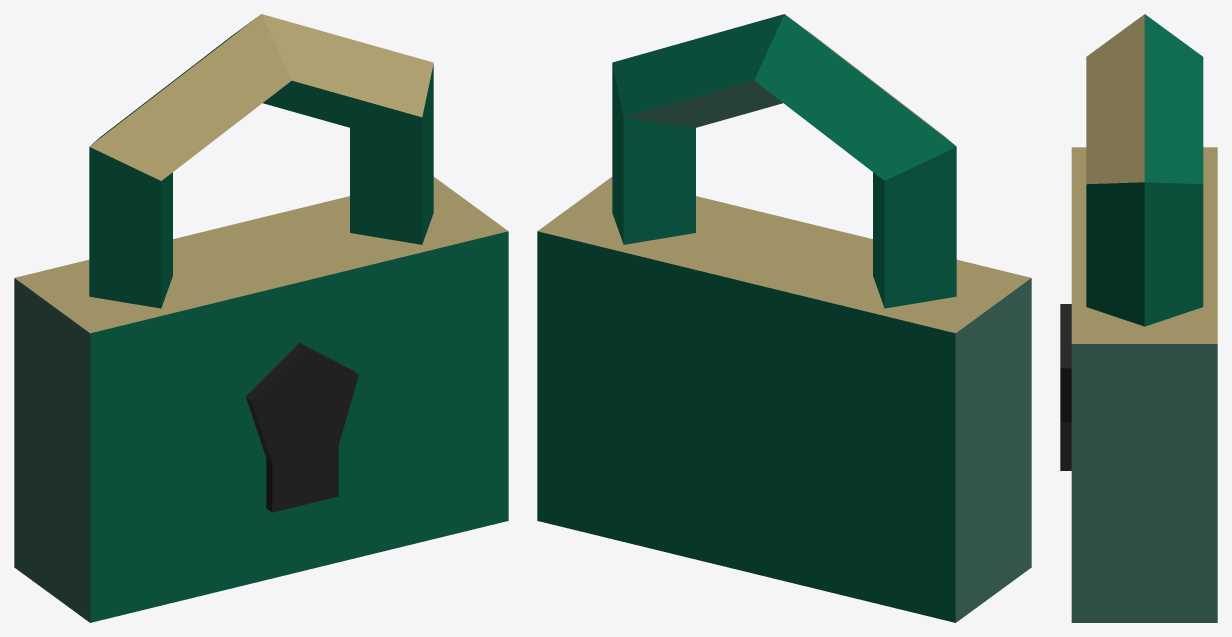
The model's file is TB_D_Prop_Chest_Lock_C.FBX.
The picture shows the model from 3 angles, left to right: view 1: azimuth 30°, elevation 25°; view 2: azimuth 150°, elevation 25°; view 3: azimuth 270°, elevation 25°; orthographic projection. The views are drawn at different scales.
Visible parts, largest first — view 1: TB_D_Prop_Chest_Lock_C; view 2: TB_D_Prop_Chest_Lock_C; view 3: TB_D_Prop_Chest_Lock_C.
Boxes of the visible parts, x1=… form: TB_D_Prop_Chest_Lock_C: x1=14, y1=14, x2=508, y2=622; TB_D_Prop_Chest_Lock_C: x1=537, y1=14, x2=1031, y2=622; TB_D_Prop_Chest_Lock_C: x1=1060, y1=14, x2=1217, y2=622.
Size of the model in its own units: 0.2268 by 0.2746 by 0.0768.
